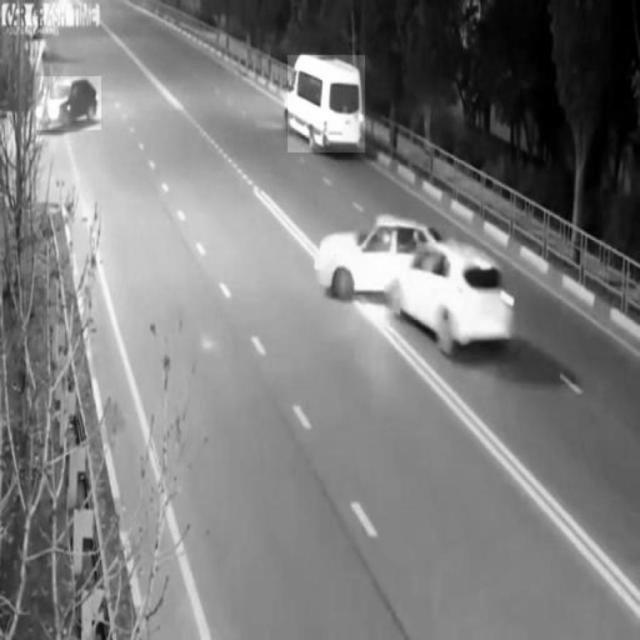accident: (320, 219, 515, 353)
vehicle: (288, 55, 366, 153), (37, 76, 101, 130)
